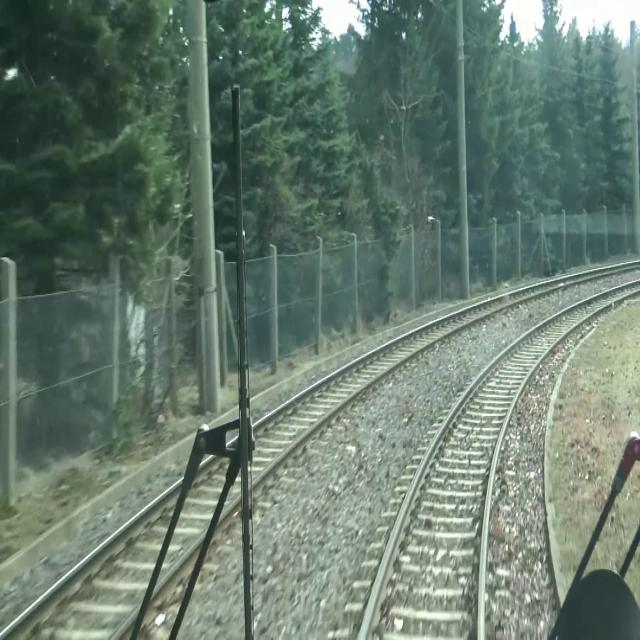rail-track: (363, 280, 639, 639), (261, 261, 639, 469), (0, 494, 168, 639)
